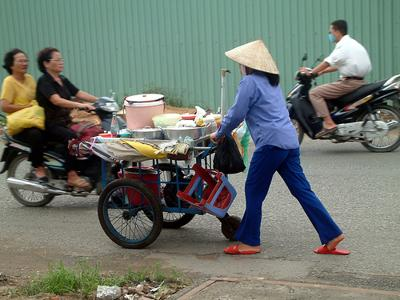person: (205, 38, 350, 256)
